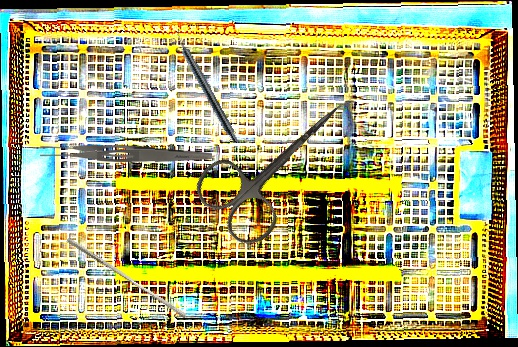Dressing Forceps: (39, 141, 213, 164)
Handpiece: (170, 27, 242, 145)
Iris Scissors: (186, 71, 374, 254)
Pusher: (63, 237, 190, 319)
